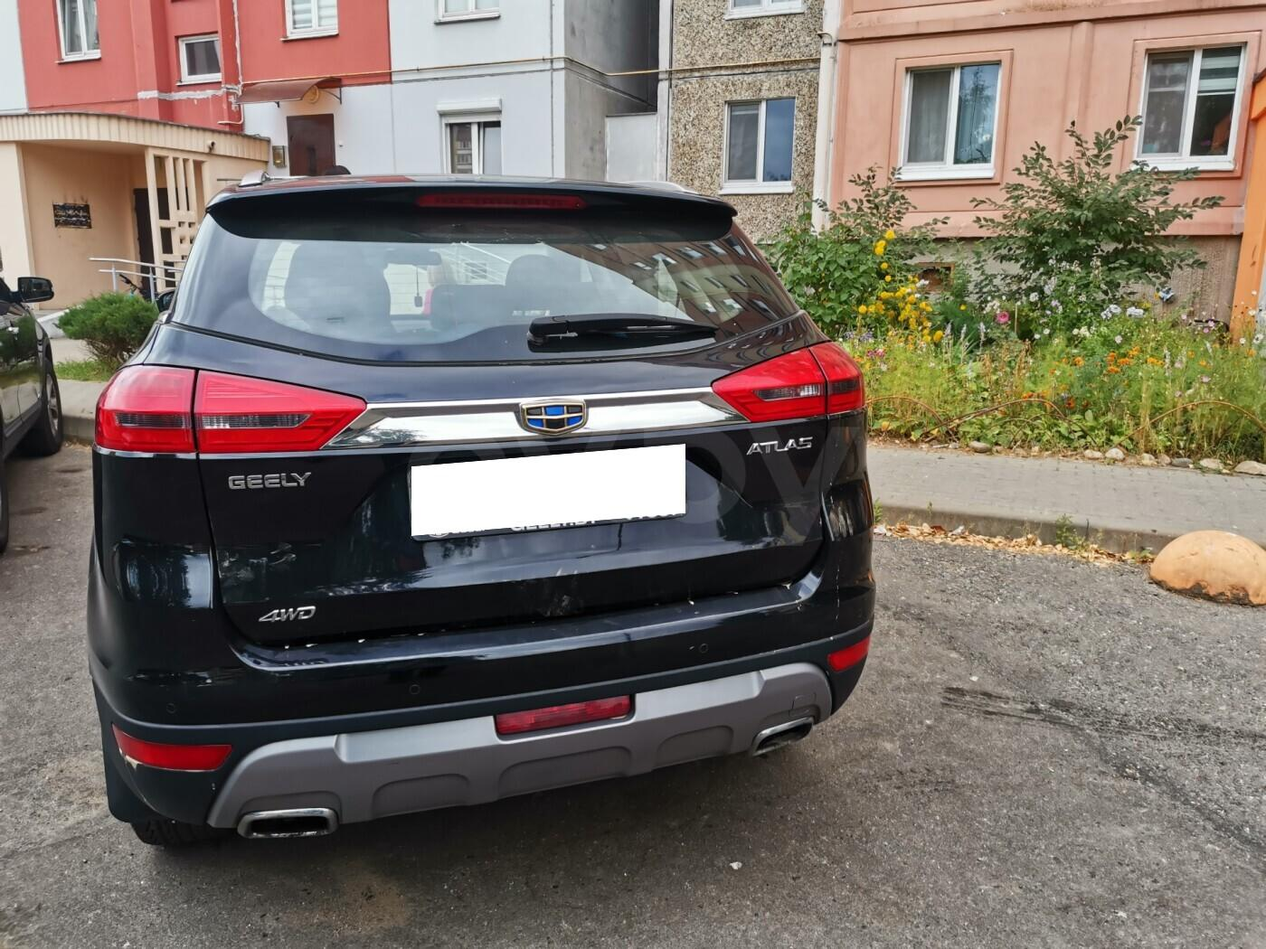Atlas_2016-2023: (83, 170, 887, 846)
